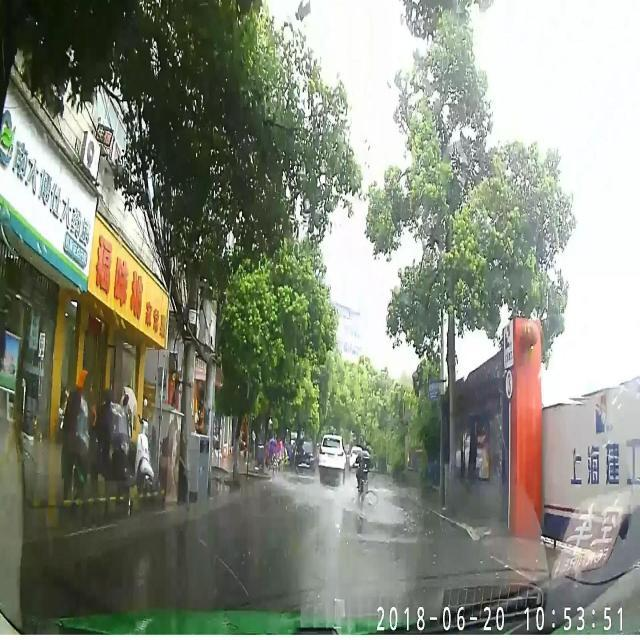car: (316, 432, 348, 478), (292, 434, 313, 473)
